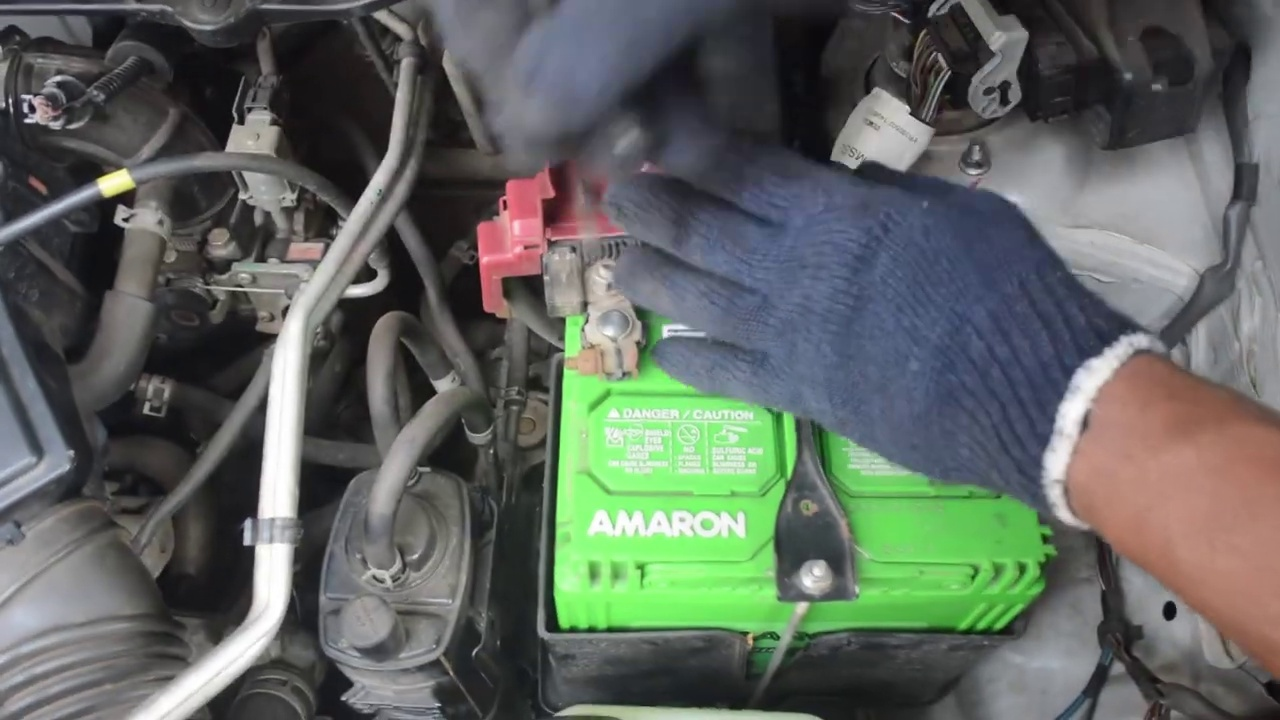battery: (545, 261, 1054, 626)
pos_connected: (475, 168, 651, 384)
pos_touched: (471, 103, 856, 440)
